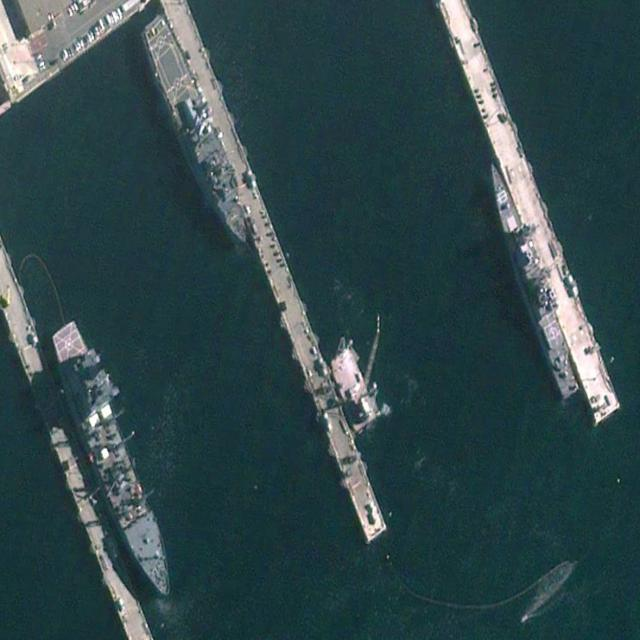Commander: (44, 309, 187, 613)
Cruiser: (476, 153, 587, 404)
Landing: (134, 6, 259, 260)
